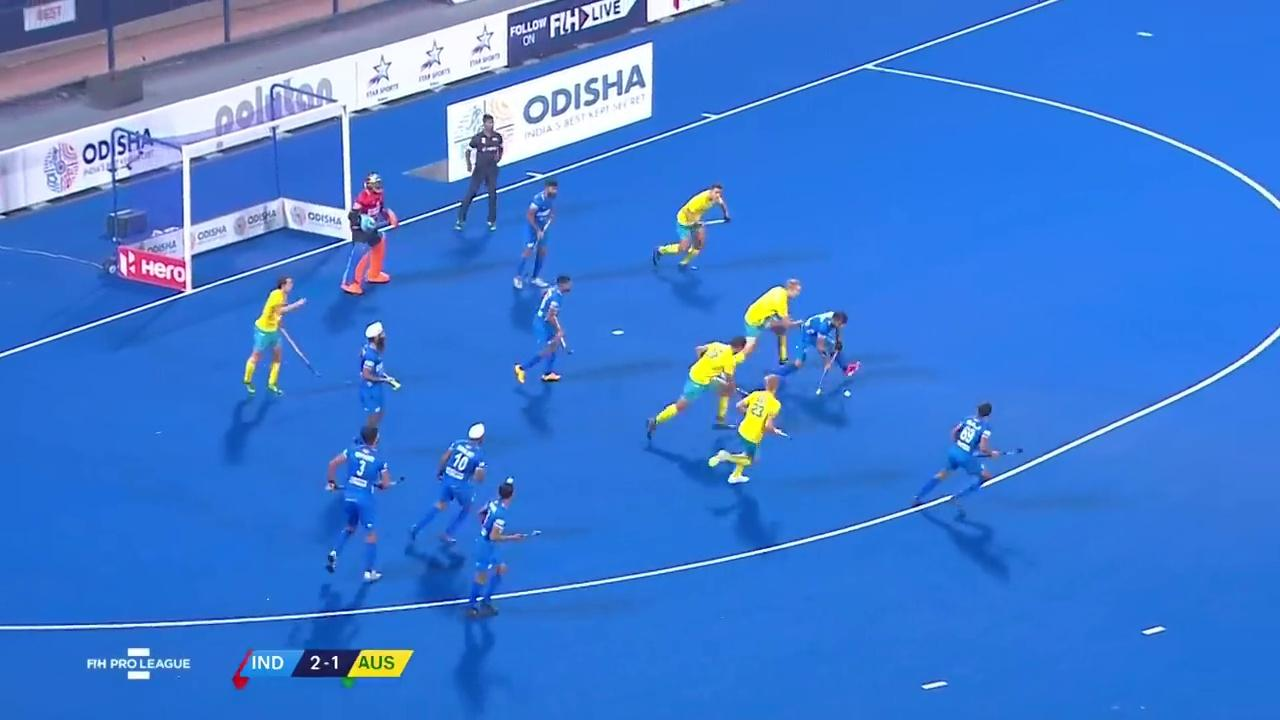ball: (841, 386, 855, 401)
